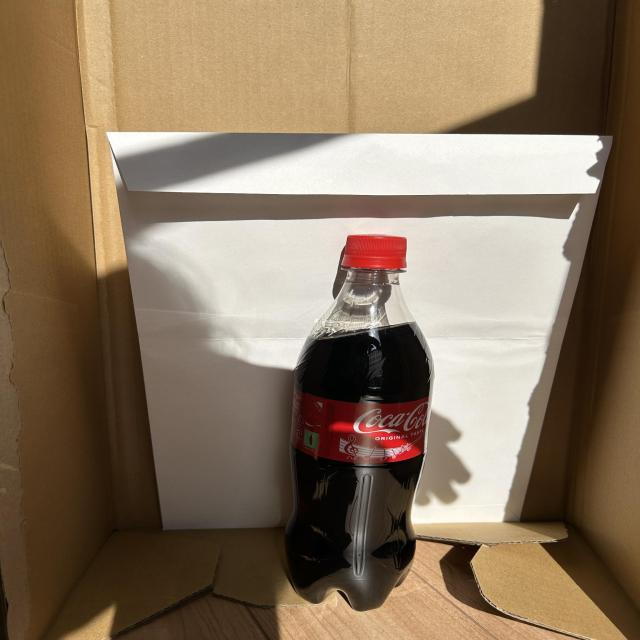high: (285, 234, 433, 611)
